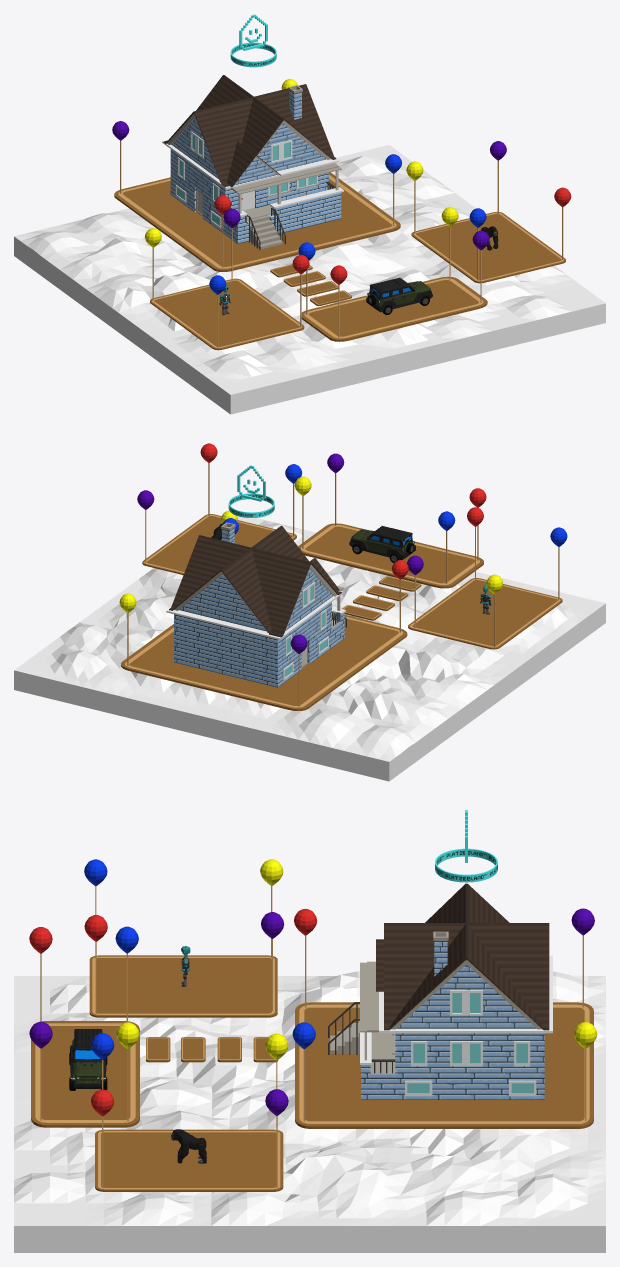
The picture shows the model from 3 angles, top to bottom: view 1: azimuth 30°, elevation 25°; view 2: azimuth 150°, elevation 25°; view 3: azimuth 270°, elevation 25°; orthographic projection. The views are drawn at different scales.
Visible parts, largest first — view 1: Cube.013, Cube.547, VEHICLES_JEEP, TYPE_PREMIUM; view 2: Cube.013, Cube.547, VEHICLES_JEEP, TYPE_PREMIUM; view 3: Cube.013, Cube.547, VEHICLES_JEEP, TYPE_PREMIUM, ANIMAL_GORILA.
Boxes of the visible parts, x1,y1,x2,y2 form: Cube.013: (14, 79, 605, 414); Cube.547: (162, 75, 343, 250); VEHICLES_JEEP: (366, 277, 432, 314); TYPE_PREMIUM: (230, 14, 276, 67); Cube.013: (14, 443, 605, 781); Cube.547: (166, 522, 346, 687); VEHICLES_JEEP: (349, 525, 415, 562); TYPE_PREMIUM: (228, 465, 274, 517); Cube.013: (14, 859, 605, 1252); Cube.547: (328, 883, 552, 1099); VEHICLES_JEEP: (69, 1029, 107, 1090); TYPE_PREMIUM: (435, 810, 497, 882); ANIMAL_GORILA: (171, 1129, 206, 1163).
Size of the model in its own units: 4000 by 2393 by 4000.
34 materials, 4 textured.
